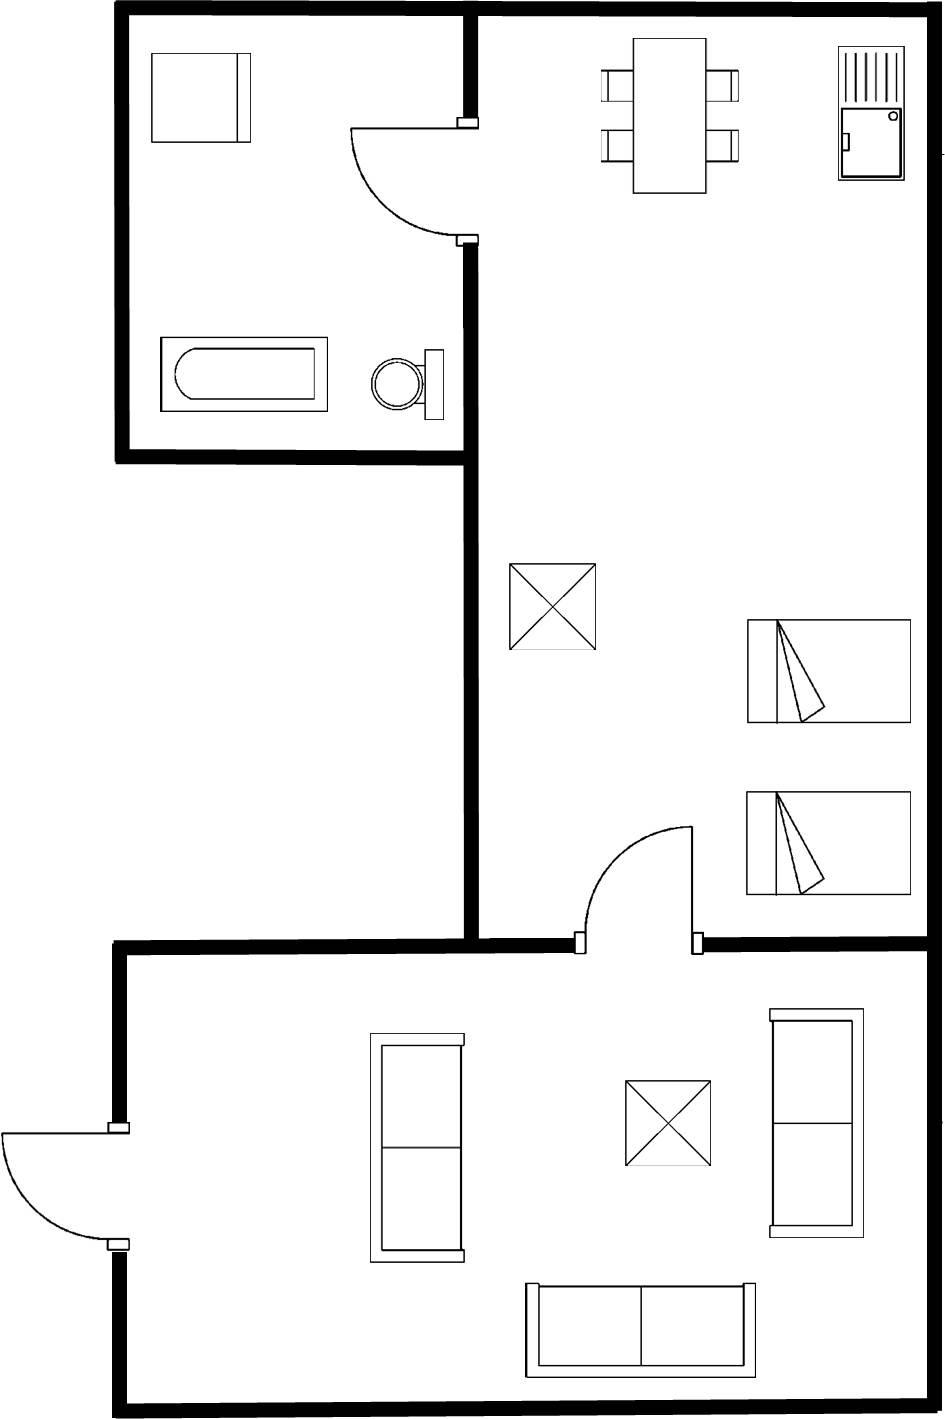bed: (736, 783, 918, 903), (736, 610, 917, 730)
dining_table: (589, 27, 747, 205)
sink: (826, 37, 911, 187)
sofa: (515, 1274, 766, 1387), (761, 998, 875, 1245), (361, 1024, 472, 1269)
toilet: (364, 341, 454, 427)
tub: (151, 327, 333, 416)
